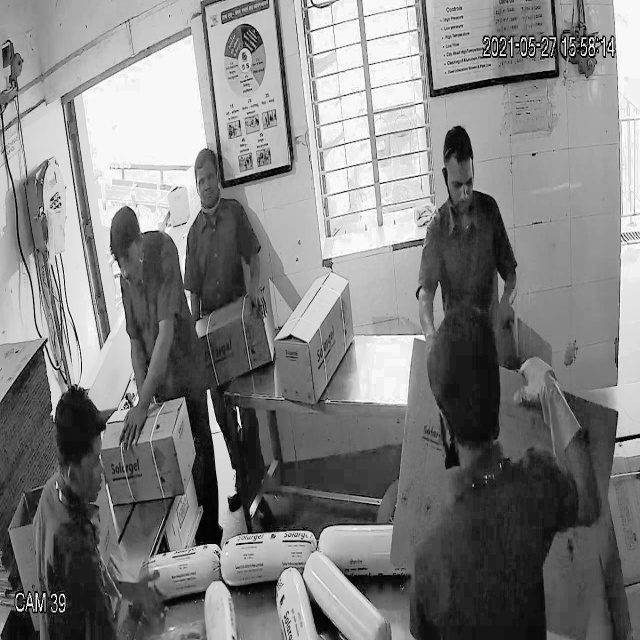Sin_gafas: (439, 170, 483, 200), (193, 166, 224, 193)
